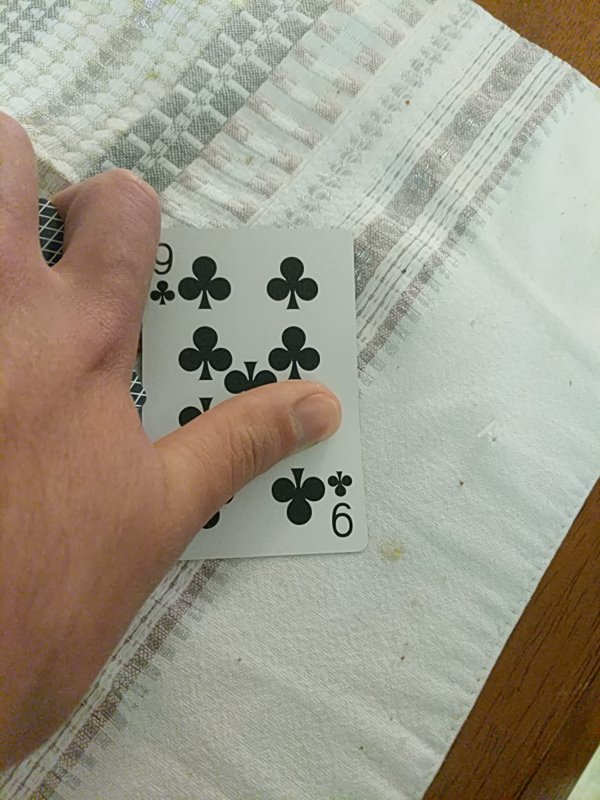Clubs: (141, 227, 368, 563)
